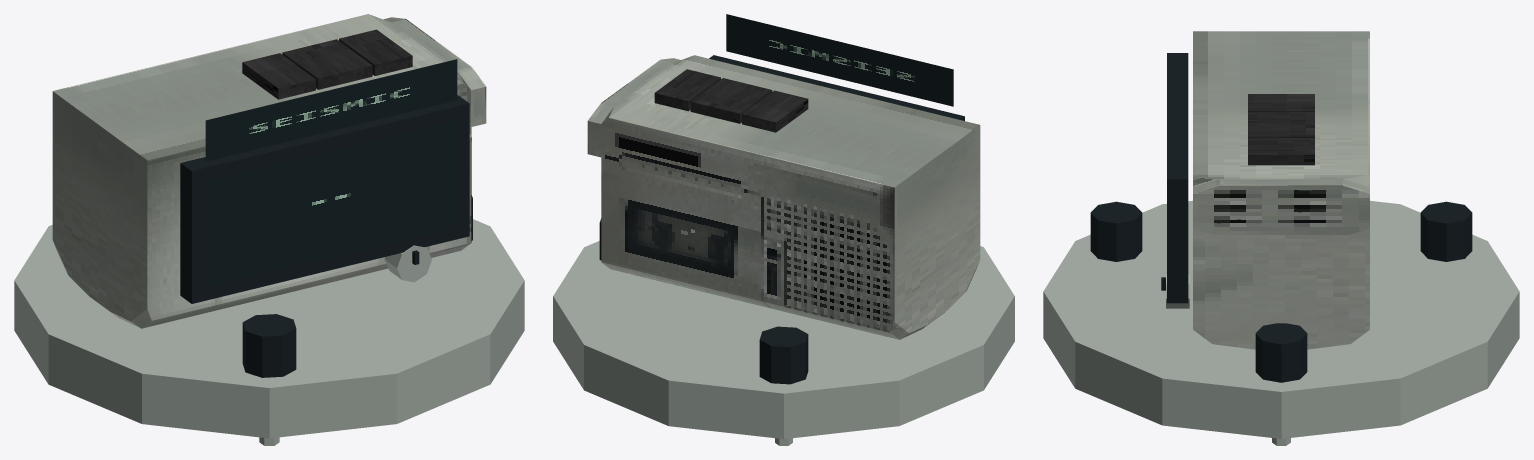
The model's file is blender_seismic_recorder_3.glb.
3 renders of one model, left to right at view 1: azimuth 30°, elevation 25°; view 2: azimuth 150°, elevation 25°; view 3: azimuth 270°, elevation 25°, orthographic. The views are drawn at different scales.
Visible parts, largest first — view 1: blender_seismic_recorder_3; view 2: blender_seismic_recorder_3; view 3: blender_seismic_recorder_3.
Part boxes in pixels (box(x1,y1,x2,y2)): blender_seismic_recorder_3: box(14, 14, 524, 445); blender_seismic_recorder_3: box(553, 14, 1014, 445); blender_seismic_recorder_3: box(1043, 31, 1519, 445).
Bounding box in the file's own units: 0.202 × 0.129 × 0.202.
Materials: 1 (1 with a texture image).
